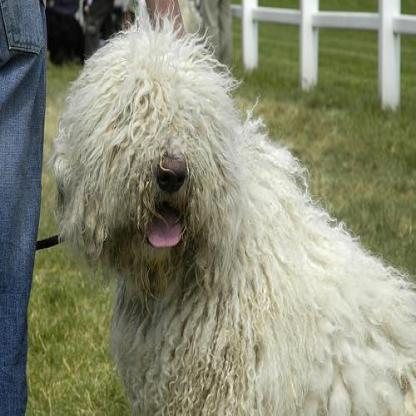komondor: (49, 23, 414, 412)
